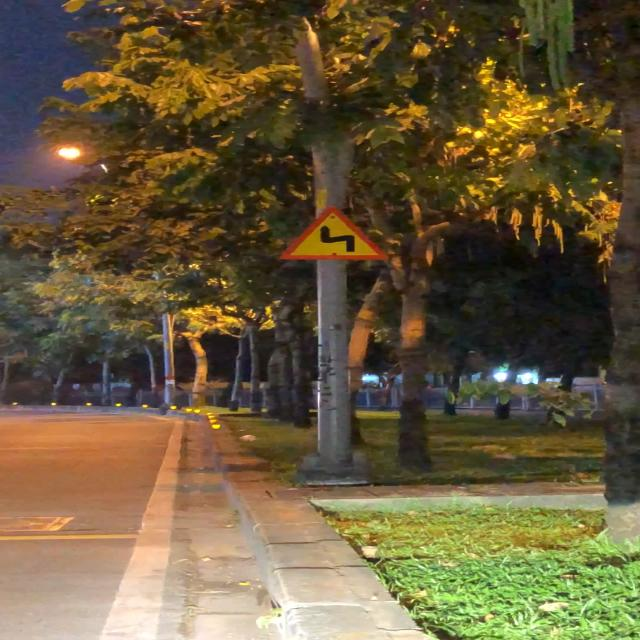Bien bao nhieu cho ngoat nguy hiem lien tiep: (280, 202, 400, 262)
